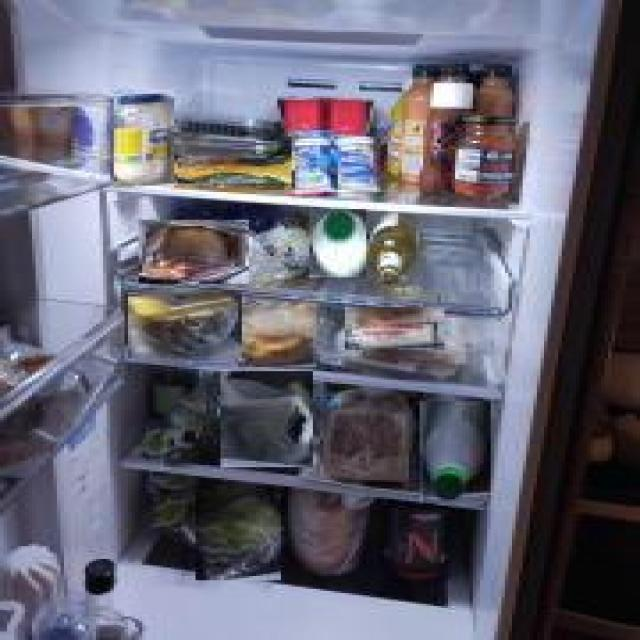bread: (316, 386, 416, 487)
broccoli: (220, 371, 313, 467)
cheese: (347, 307, 446, 350)
humus: (139, 221, 249, 285), (238, 303, 316, 367)
mayonaise: (114, 90, 174, 188)
milk: (422, 401, 492, 504), (311, 209, 368, 277)
pineapple: (130, 291, 243, 360)
salad: (197, 489, 283, 580)
tortillas: (178, 158, 298, 183)
yogurt: (292, 130, 334, 196), (334, 137, 380, 192), (276, 97, 326, 136), (332, 96, 372, 139)
